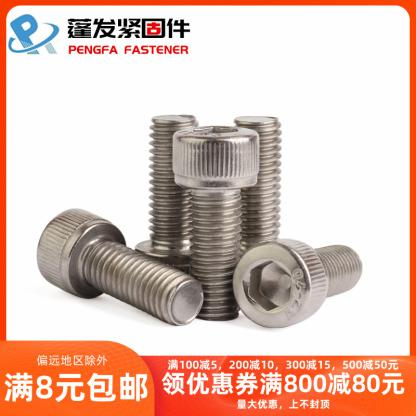FOD: (27, 205, 204, 328), (171, 122, 261, 325), (134, 110, 204, 290), (228, 236, 364, 328), (225, 111, 289, 303)
